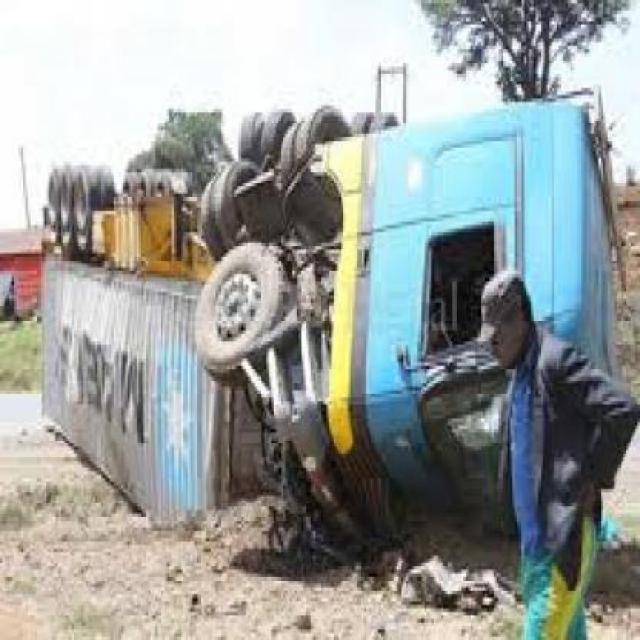accident: (27, 89, 631, 574)
